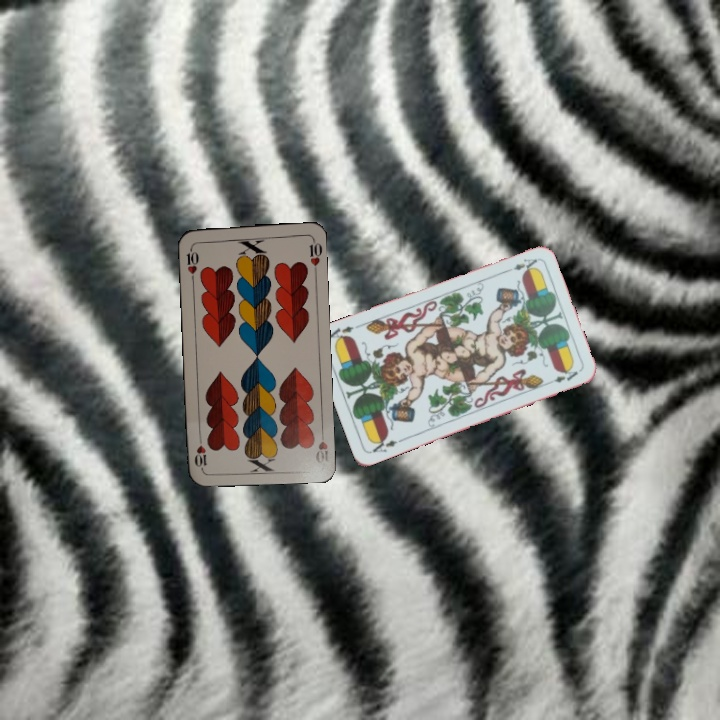EA: (368, 433, 406, 455), (510, 254, 540, 273)
H10: (311, 425, 331, 465), (182, 242, 201, 283)
